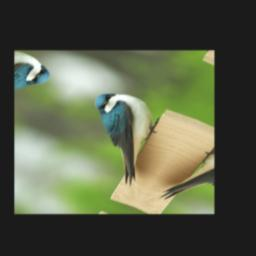Swallow: (53, 84, 184, 188)
